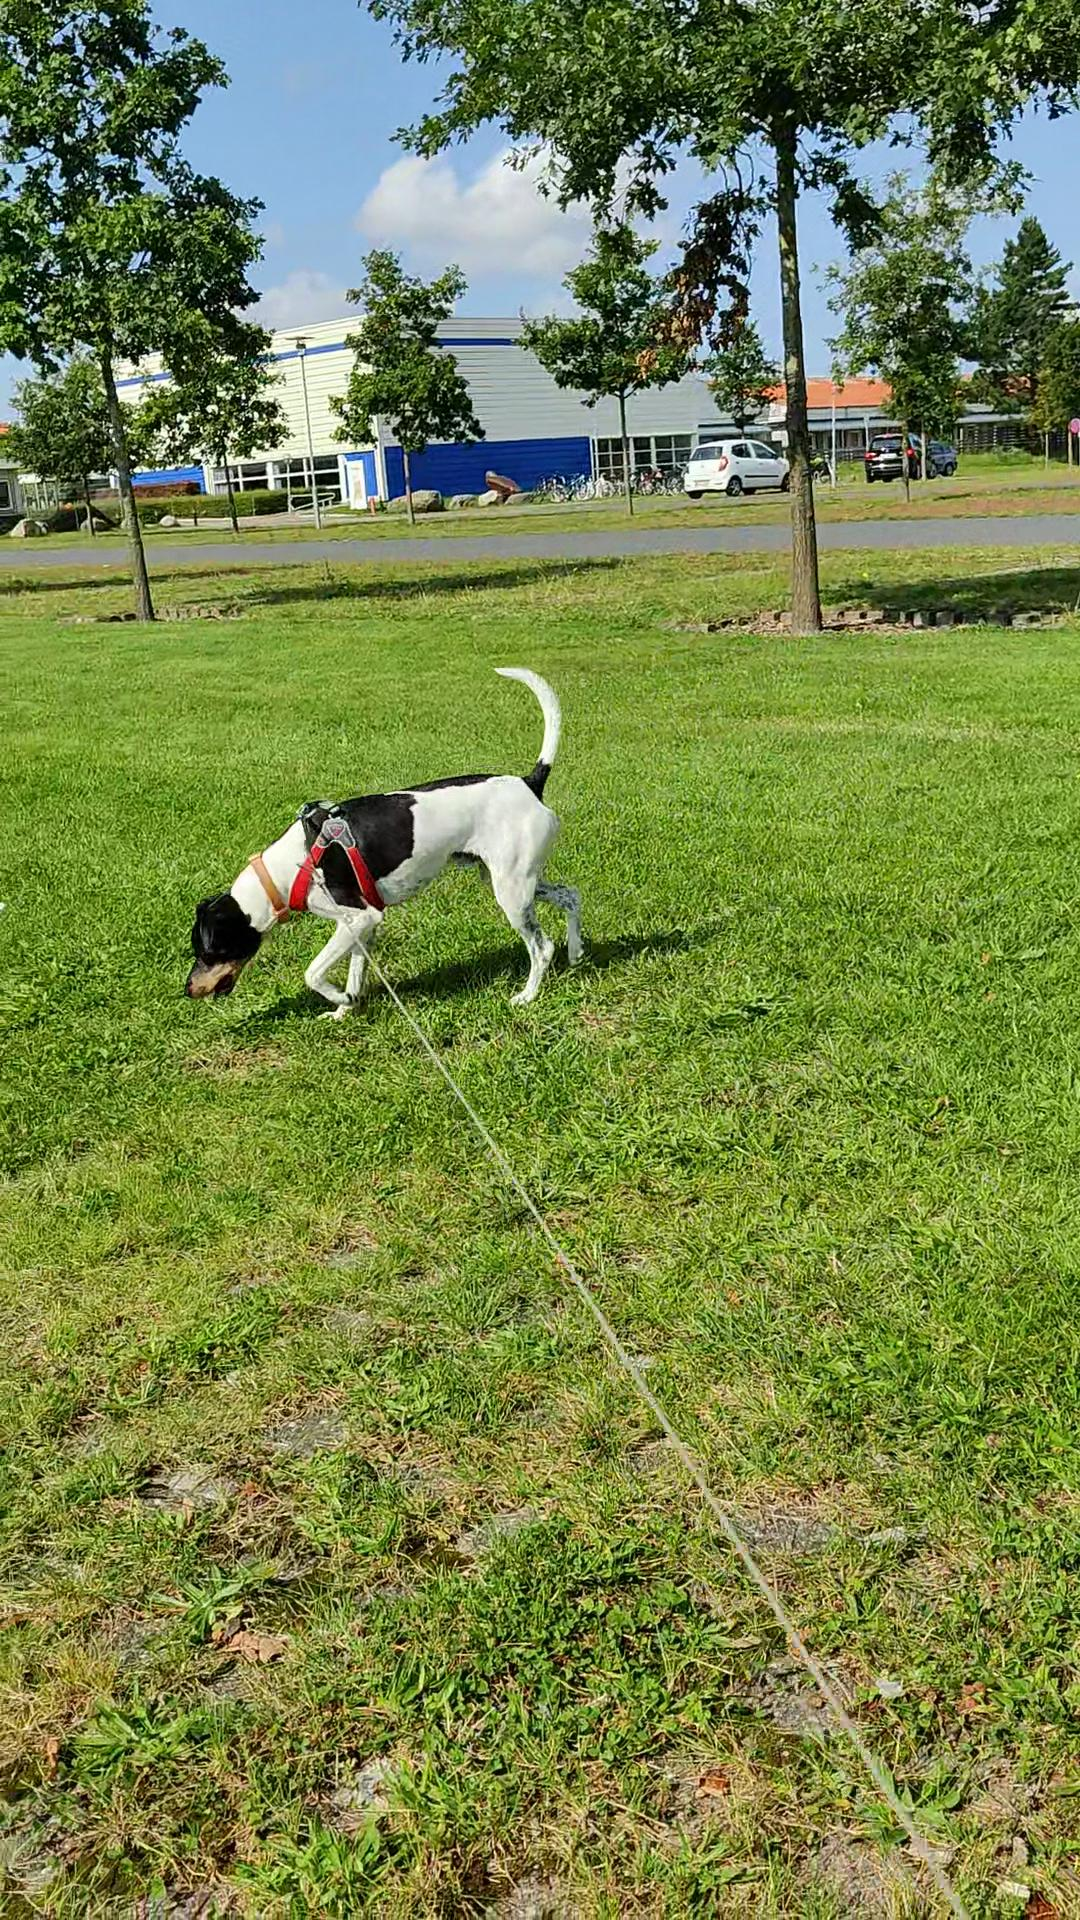Dog: (164, 655, 597, 1034)
